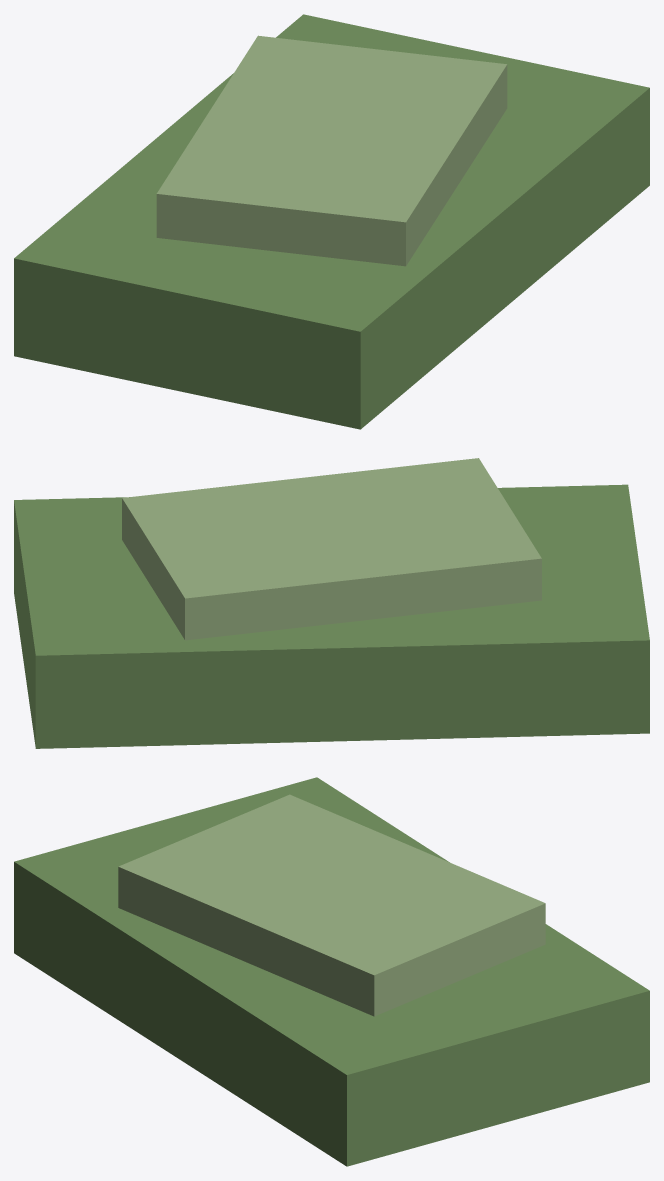
Rendered from structure.glb.
3 renders of one model, top to bottom at view 1: azimuth 30°, elevation 25°; view 2: azimuth 150°, elevation 25°; view 3: azimuth 270°, elevation 25°, orthographic. The views are drawn at different scales.
Visible parts, largest first — view 1: Box1, Box2; view 2: Box1, Box2; view 3: Box1, Box2.
Boxes of the visible parts, x1=… form: Box1: x1=14, y1=14, x2=649, y2=429; Box2: x1=156, y1=35, x2=507, y2=266; Box1: x1=14, y1=484, x2=649, y2=748; Box2: x1=122, y1=458, x2=541, y2=640; Box1: x1=14, y1=777, x2=649, y2=1166; Box2: x1=118, y1=794, x2=545, y2=1016.
Bounding box in the file's own units: 150 × 31.11 × 135.
